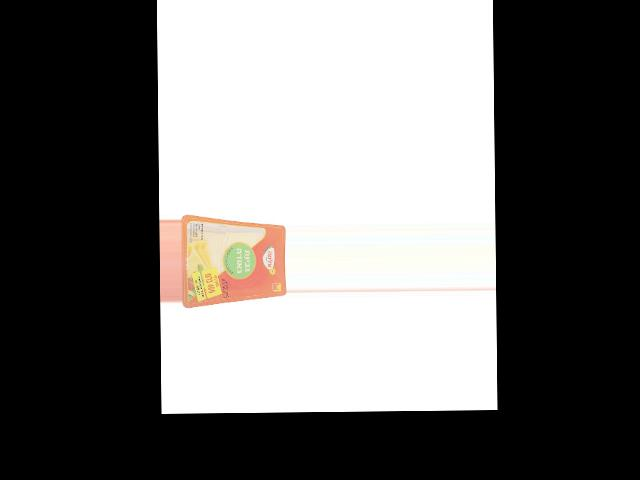cheese: (180, 214, 285, 308)
